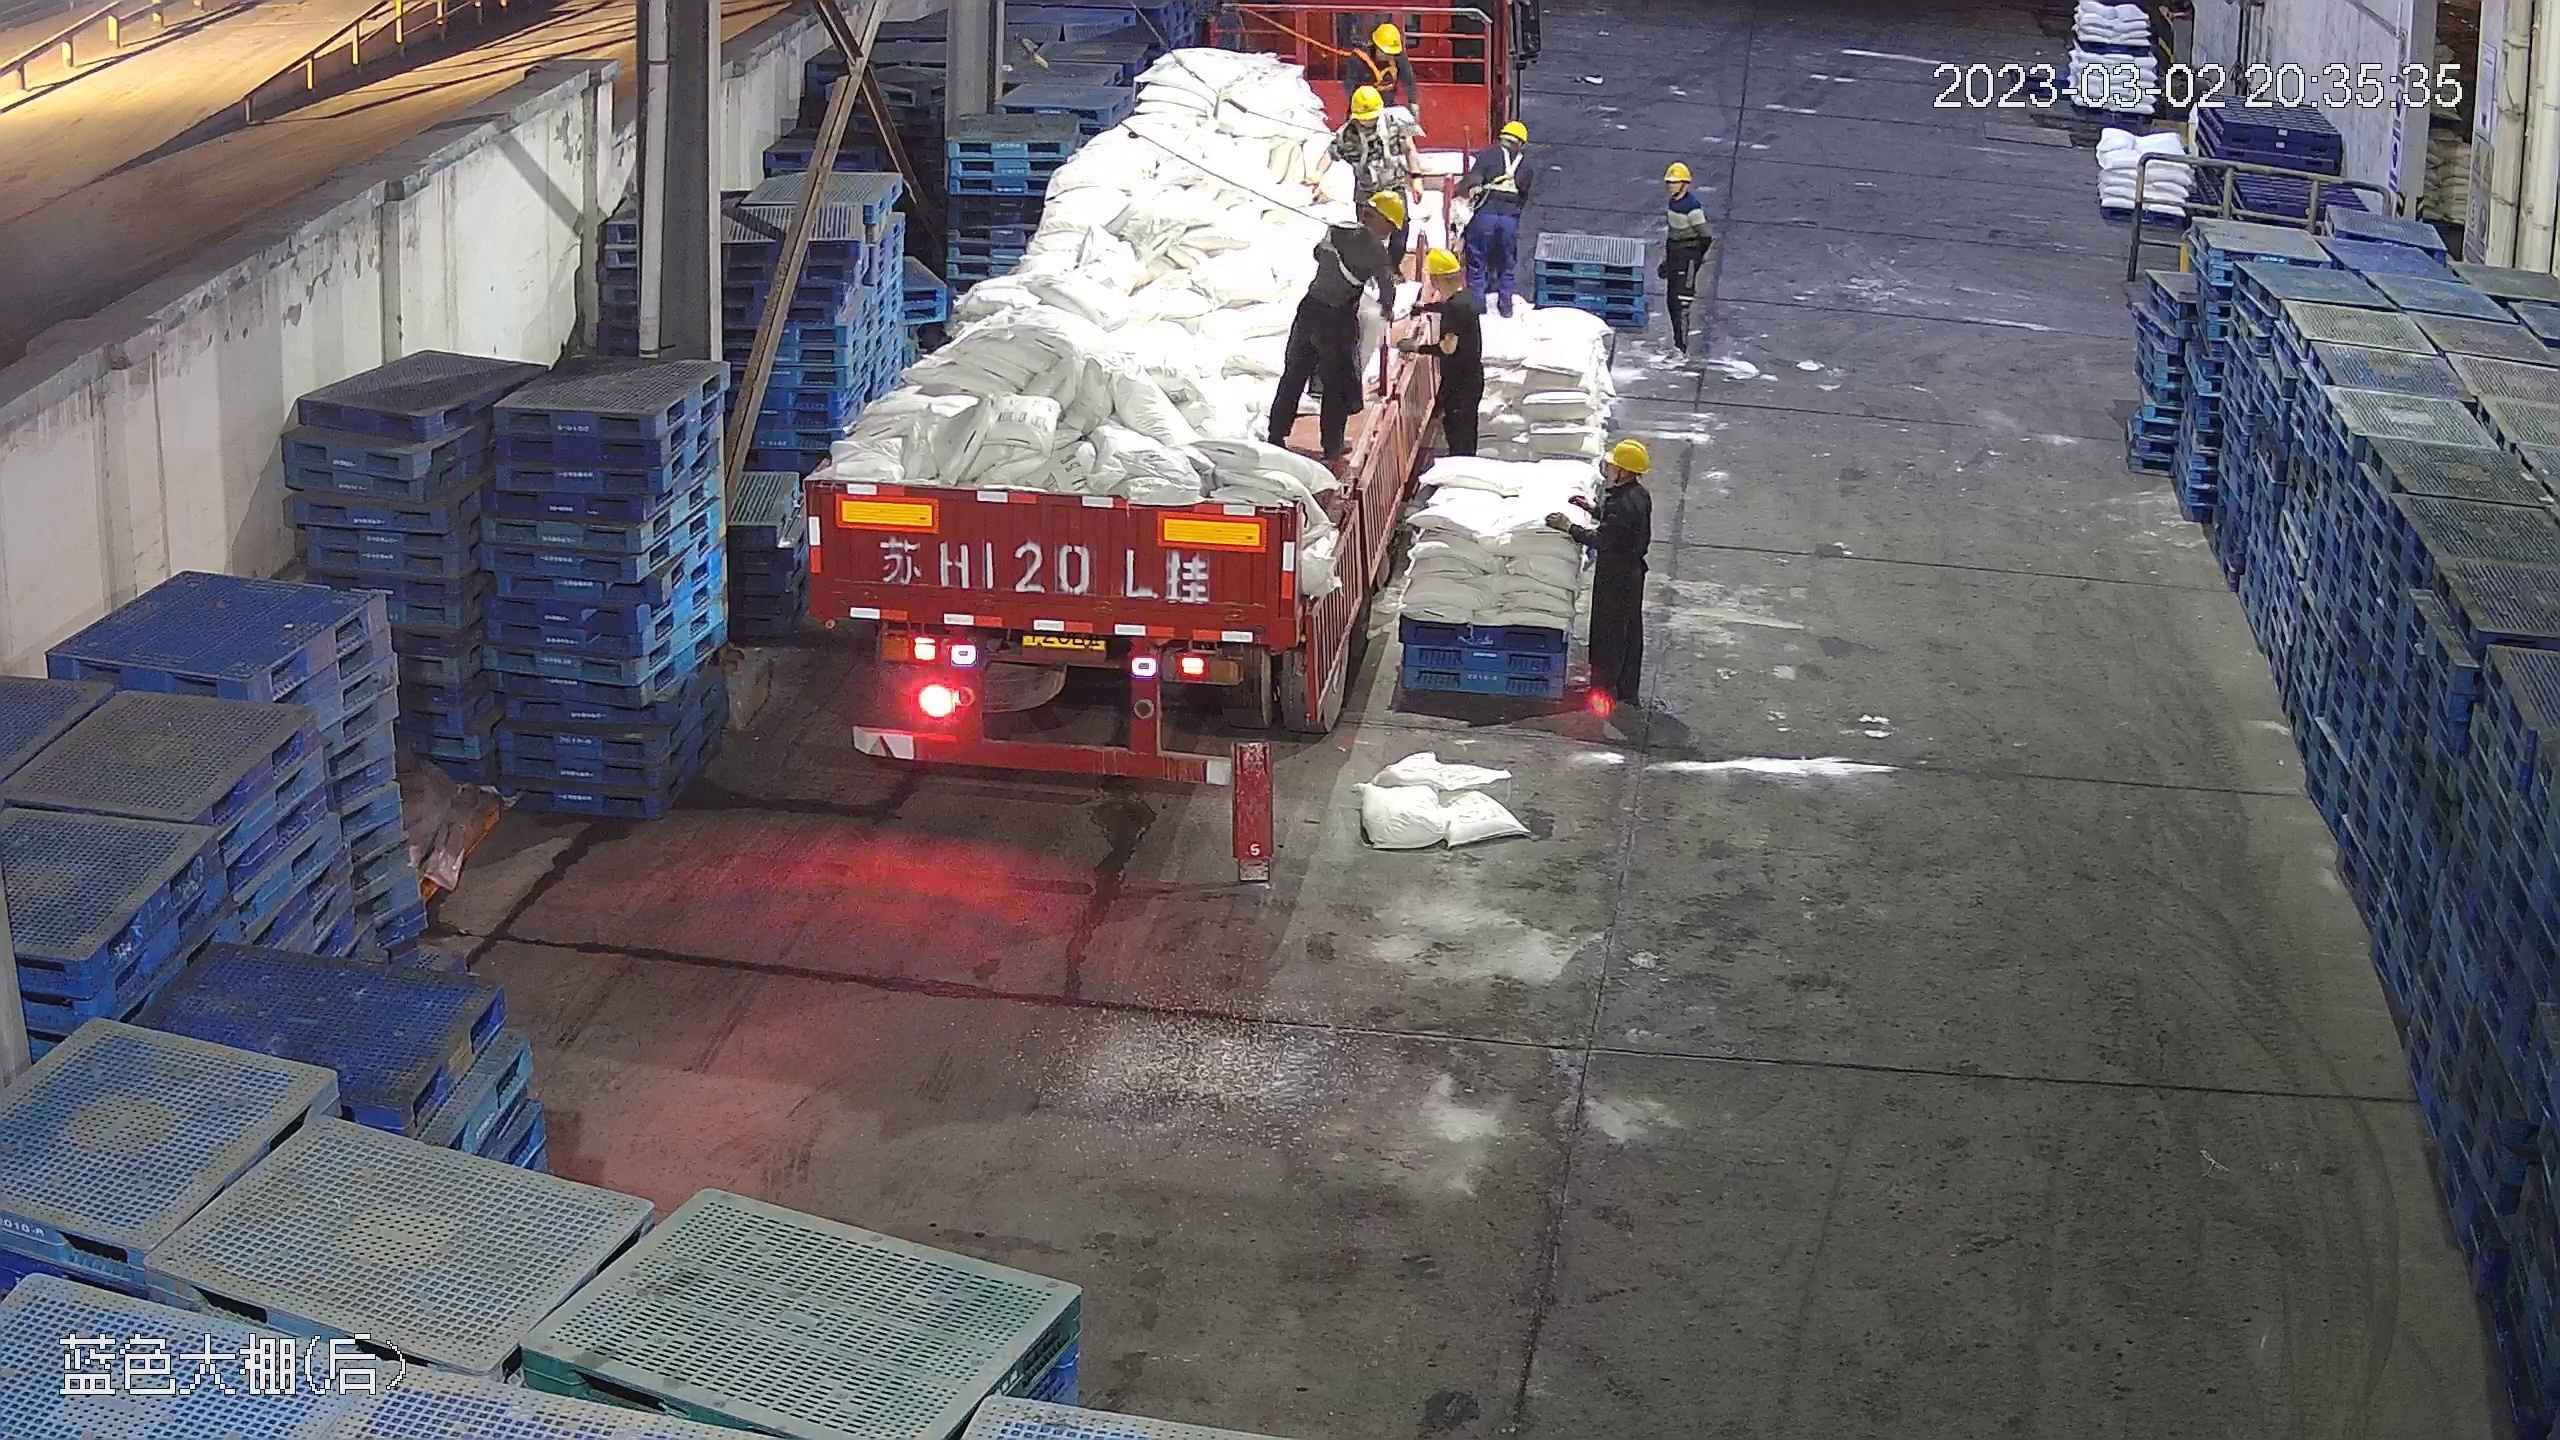belt: (1310, 218, 1378, 285), (1356, 123, 1405, 180), (1479, 142, 1525, 196), (1355, 42, 1400, 94)
head: (1314, 189, 1409, 276), (1579, 436, 1650, 530), (1403, 245, 1478, 327), (1340, 88, 1404, 161), (1471, 119, 1534, 186), (1658, 161, 1710, 223), (1351, 19, 1409, 74)
helmet: (1363, 187, 1409, 231), (1604, 436, 1651, 473), (1418, 245, 1463, 279), (1349, 85, 1386, 120), (1371, 22, 1404, 56), (1500, 118, 1530, 142), (1663, 160, 1691, 181)
people: (1264, 185, 1412, 461), (1554, 432, 1653, 717), (1378, 244, 1483, 480), (1454, 117, 1532, 322), (1651, 157, 1715, 367), (1331, 83, 1411, 200)
truck: (797, 10, 1490, 781)
